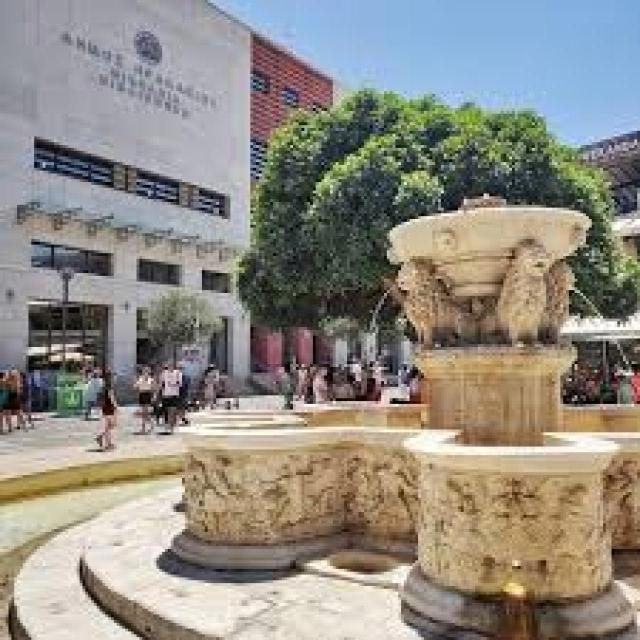Liontaria: (169, 206, 640, 635)
